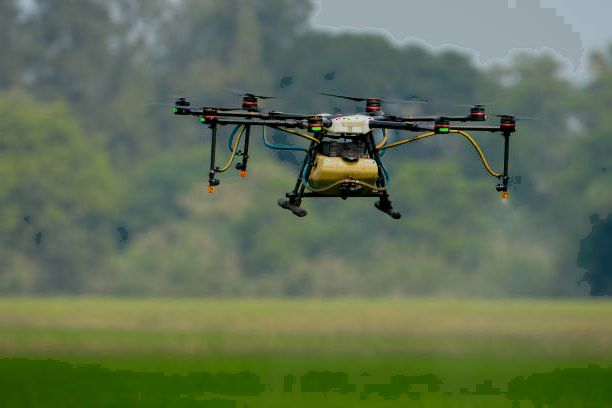Drone: (157, 86, 533, 231)
